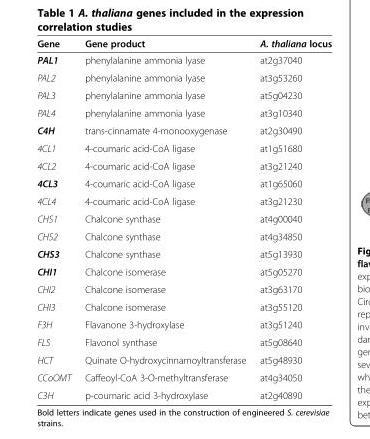table: (36, 37, 331, 400)
table column: (77, 37, 252, 400), (252, 37, 331, 400), (36, 37, 77, 400)
table column header: (36, 37, 331, 51)
table row: (36, 68, 331, 86), (36, 103, 331, 121), (36, 121, 331, 139), (36, 156, 331, 174), (36, 174, 331, 192), (36, 209, 331, 227), (36, 244, 331, 262), (36, 262, 331, 280), (36, 297, 331, 315), (36, 315, 331, 333), (36, 350, 331, 368), (36, 368, 331, 386), (36, 51, 331, 68), (36, 86, 331, 103), (36, 139, 331, 156), (36, 192, 331, 209), (36, 227, 331, 244), (36, 280, 331, 297), (36, 333, 331, 350), (36, 37, 331, 51), (36, 386, 331, 400)
